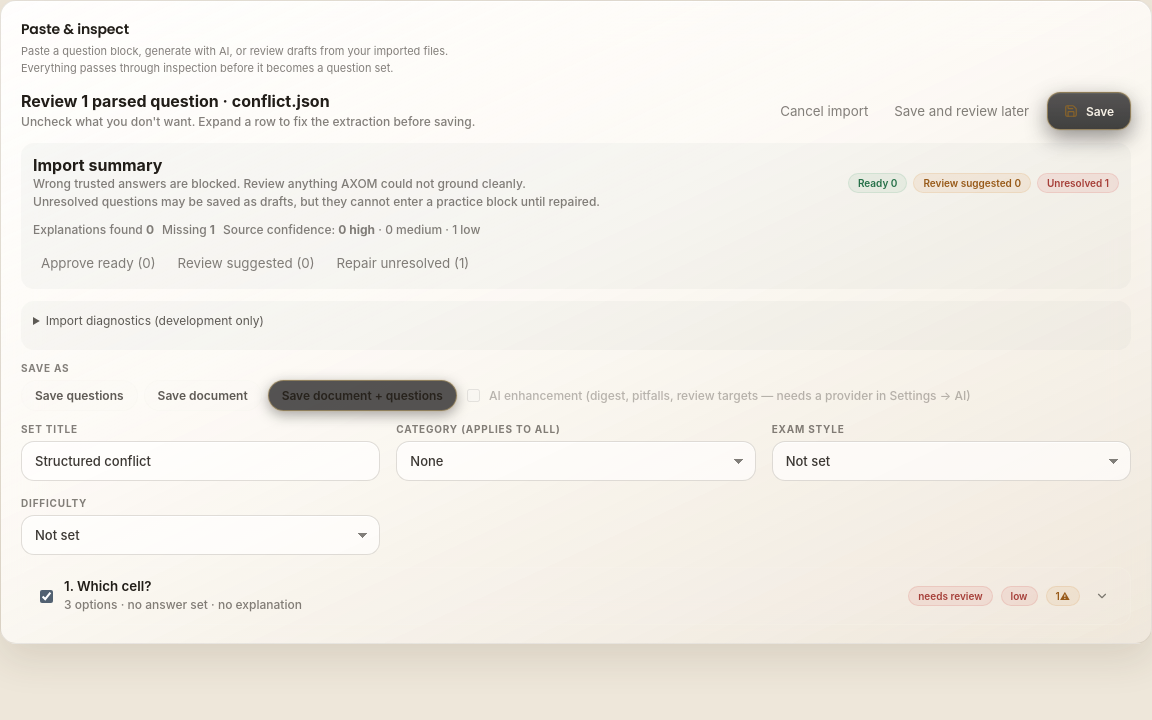
it: source-document-first import › shows both sides of a JSON letter/text conflict without preselecting an answer
Click the button "1. Which cell? 3 options · no answer set · no explanation".
click(114, 586)  # box [64,578,900,614]
(page scrolled)
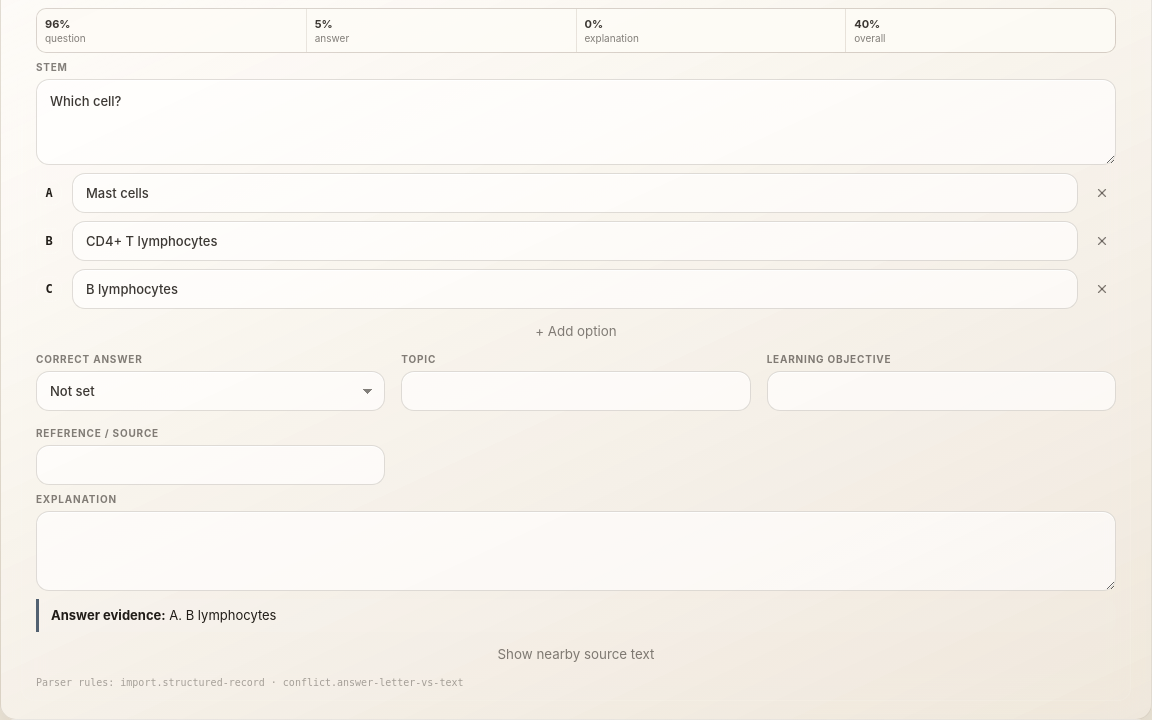
Check: the dropdown labelled "Correct answer" shows "Not set", box [36,371,385,411]
Check: the text "Answer evidence: A. B lymphocytes" is shown, box [36,599,1116,632]
